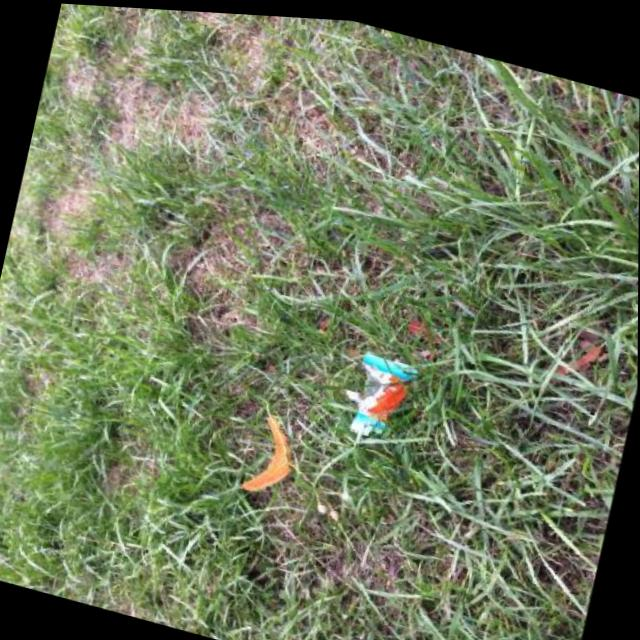plastic: (340, 347, 421, 447)
